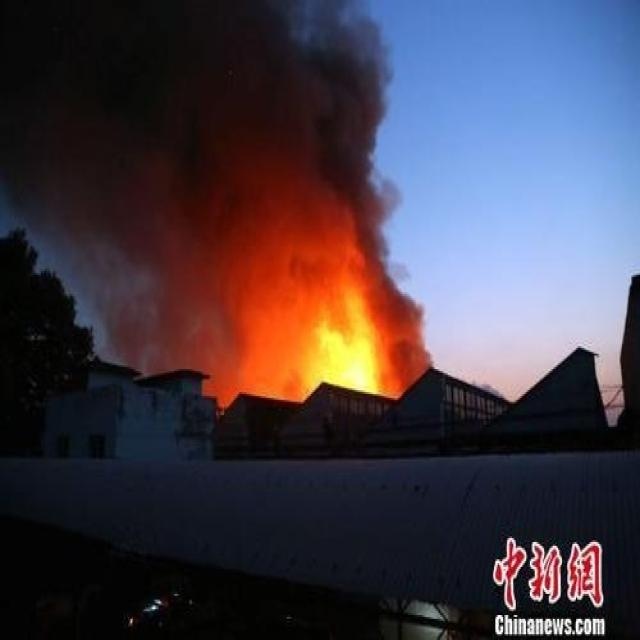fire: (226, 213, 454, 391)
smoke: (20, 13, 367, 280)
